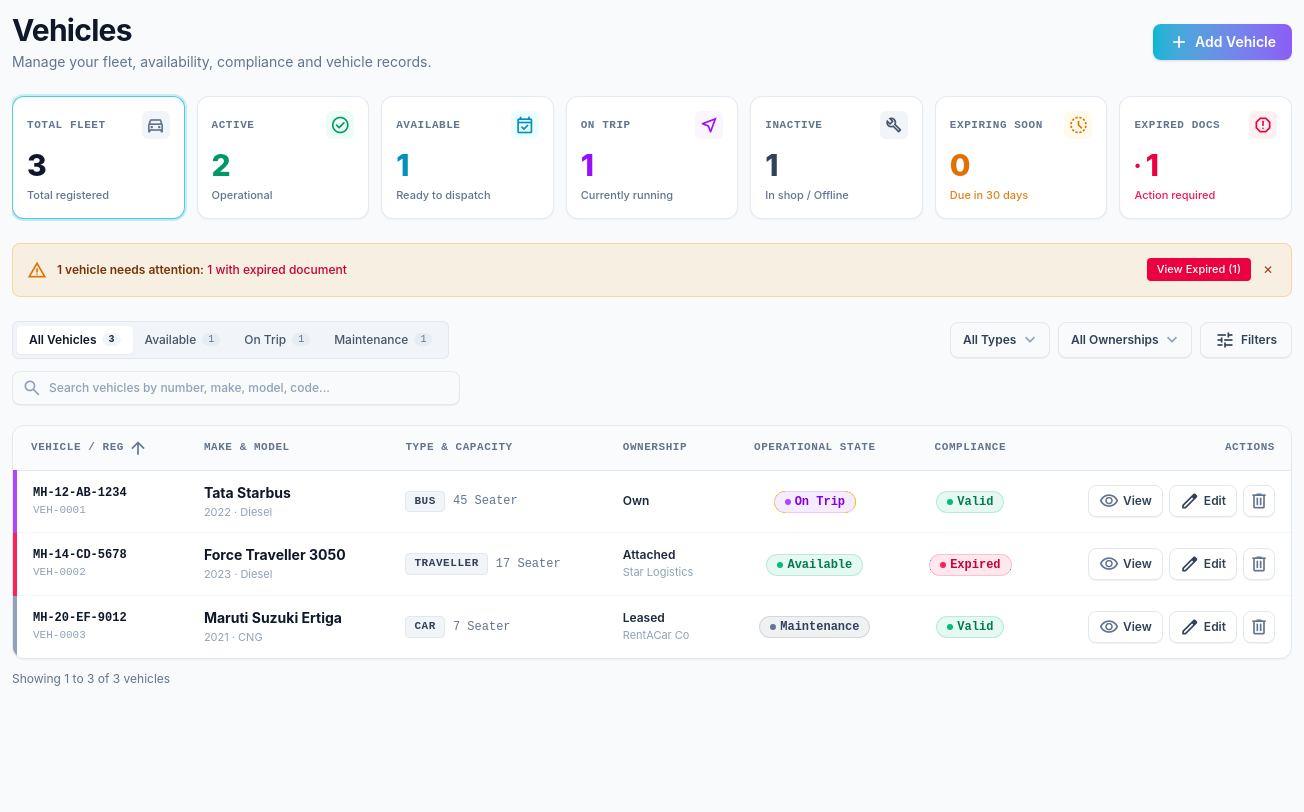
Test: VehicleList Component › filters vehicles by operational tabs
This screenshot has width=1304, height=812.
// Click "On Trip" tab
Click the button "On Trip 1" at (277,340), box [232,326,322,354]
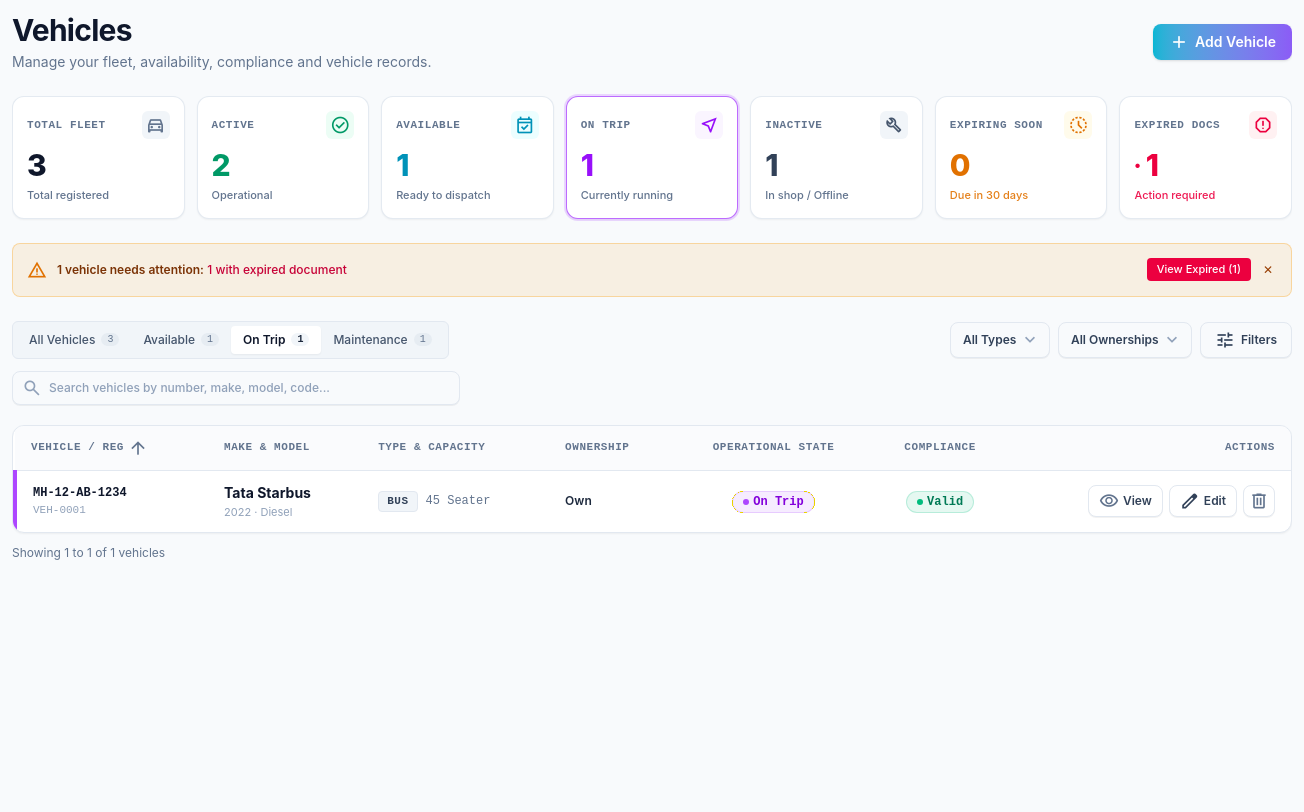
Expected: the text "MH-20-EF-9012" is gone
// Click "Maintenance" tab
Click the button "Maintenance 1" at (383,340), box [321,326,444,354]
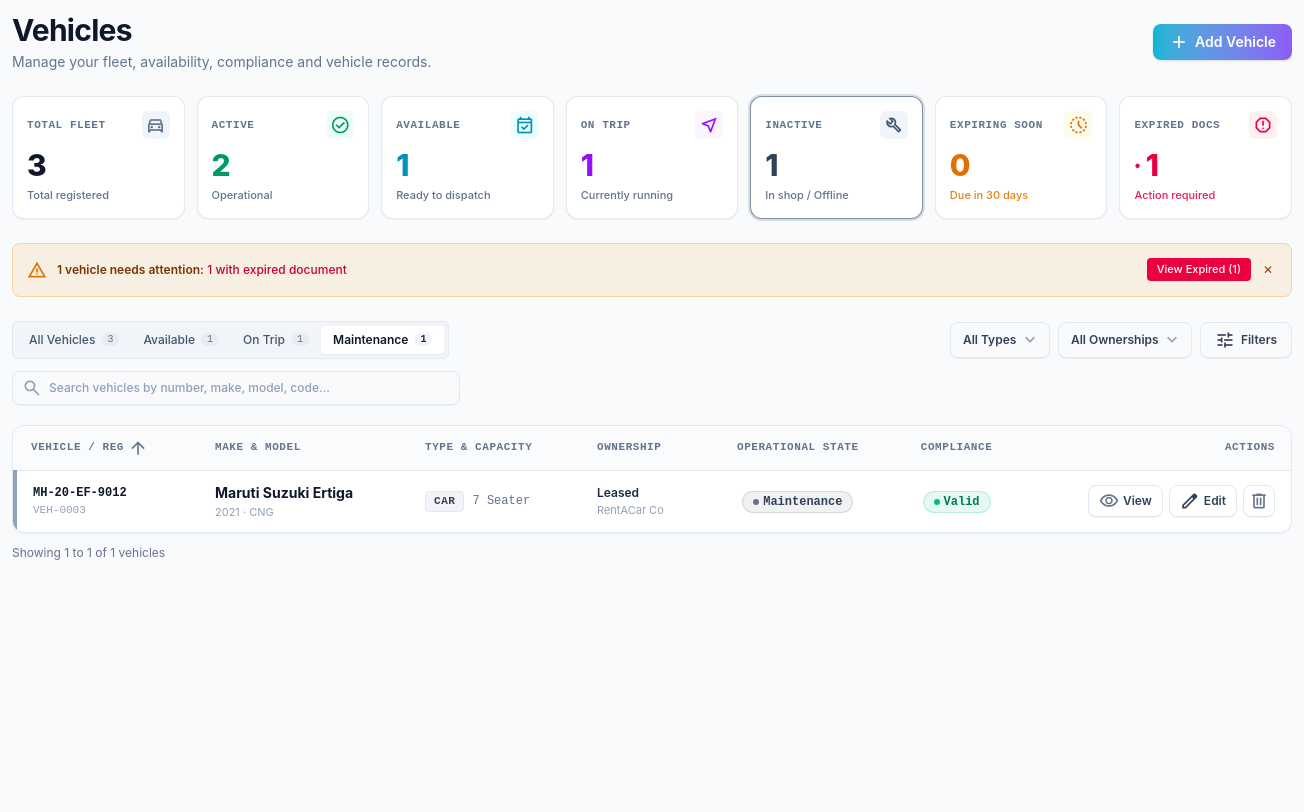
Expected: the text "MH-12-AB-1234" is gone
